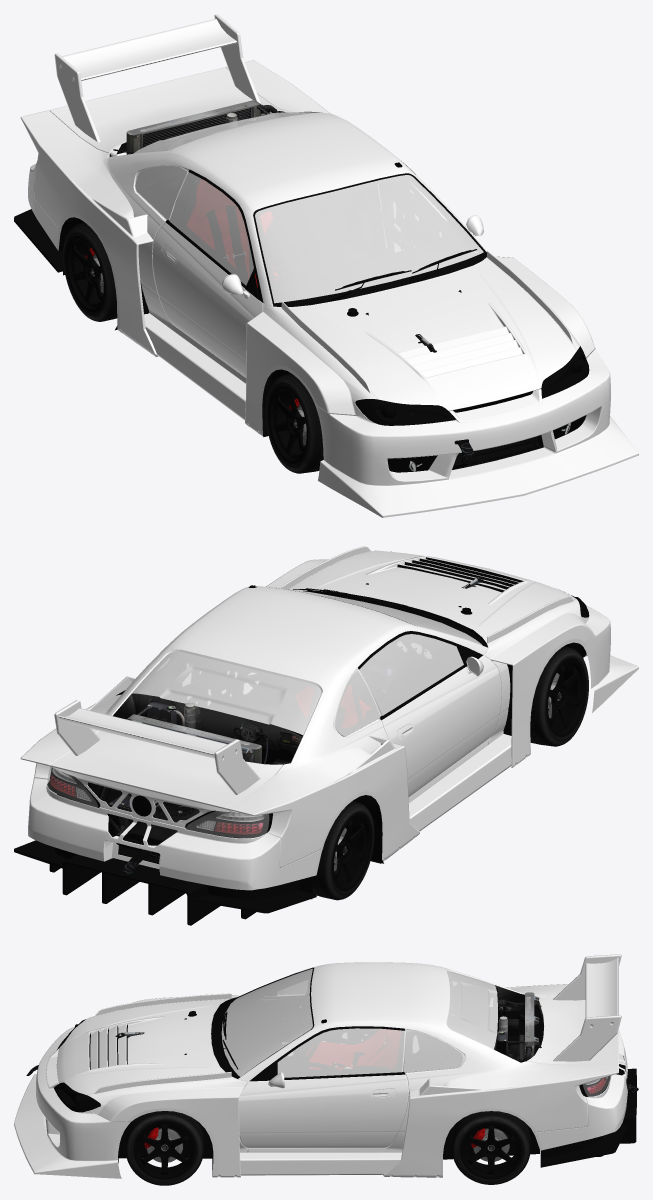
Rendered from nissan-s15-lbwk.glb.
3 views of the same model, one above another, from view 1: azimuth 30°, elevation 25°; view 2: azimuth 150°, elevation 25°; view 3: azimuth 270°, elevation 25° (orthographic). The views are drawn at different scales.
Visible parts, largest first — view 1: Object_2, Object_5, Object_12, Object_15, Object_16, Object_9, Object_18, Object_4, Object_41, Object_32, Object_29, Object_36 (+4 smaller); view 2: Object_2, Object_5, Object_12, Object_4, Object_15, Object_7, Object_16, Object_41, Object_20, Object_36, Object_40, Object_9 (+6 smaller); view 3: Object_2, Object_5, Object_12, Object_15, Object_16, Object_41, Object_4, Object_18, Object_7, Object_40, Object_36, Object_24 (+7 smaller).
Part boxes in pixels (<box>): Object_2: <box>20,60,638,517</box>; Object_5: <box>133,112,483,303</box>; Object_12: <box>288,257,576,410</box>; Object_15: <box>136,113,486,373</box>; Object_16: <box>54,14,260,142</box>; Object_9: <box>58,162,586,472</box>; Object_18: <box>276,239,472,297</box>; Object_4: <box>109,100,436,352</box>; Object_41: <box>63,222,323,473</box>; Object_32: <box>169,183,474,301</box>; Object_29: <box>355,346,589,425</box>; Object_36: <box>268,385,308,464</box>; Object_2: <box>20,546,638,890</box>; Object_5: <box>132,587,482,736</box>; Object_12: <box>289,550,576,642</box>; Object_4: <box>57,557,523,864</box>; Object_15: <box>133,587,487,735</box>; Object_7: <box>14,840,316,925</box>; Object_16: <box>54,700,260,794</box>; Object_41: <box>312,646,588,900</box>; Object_20: <box>47,767,268,837</box>; Object_36: <box>546,658,586,736</box>; Object_40: <box>332,813,372,891</box>; Object_9: <box>116,583,586,877</box>; Object_2: <box>14,962,627,1178</box>; Object_5: <box>221,968,497,1077</box>; Object_12: <box>56,998,231,1094</box>; Object_15: <box>211,967,493,1081</box>; Object_16: <box>553,954,621,1061</box>; Object_41: <box>125,1111,530,1185</box>; Object_4: <box>89,985,625,1096</box>; Object_18: <box>226,998,281,1072</box>; Object_7: <box>540,1068,636,1167</box>; Object_40: <box>460,1123,522,1179</box>; Object_36: <box>133,1121,195,1179</box>; Object_24: <box>306,1029,400,1069</box>.
Size of what is drawn, in the model's own units: 1.98 by 1.29 by 4.83.
Materials: 36 (8 with a texture image).
